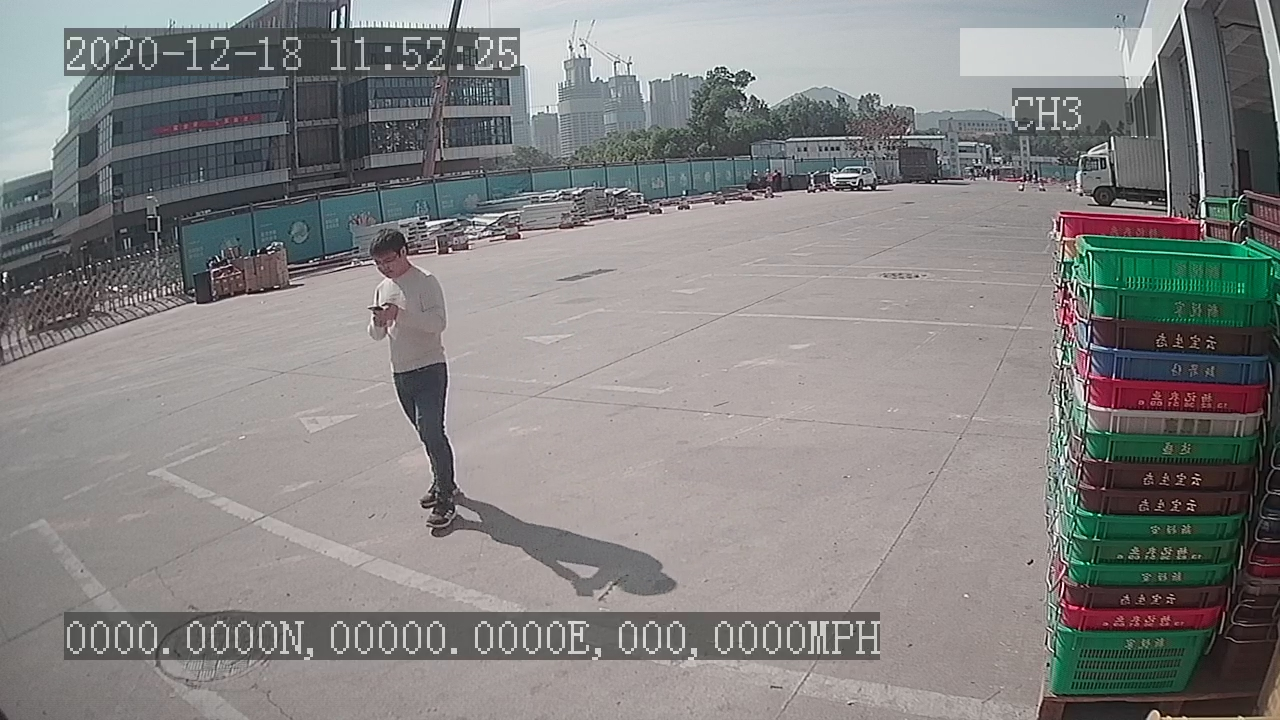person: (358, 227, 467, 538)
